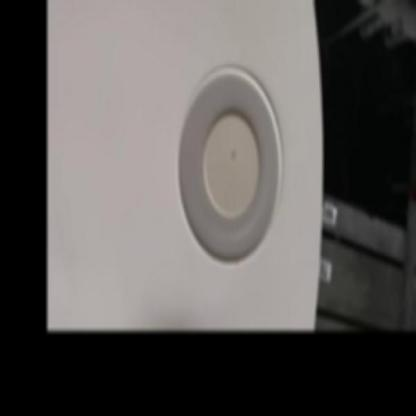light_off: (165, 29, 292, 286)
